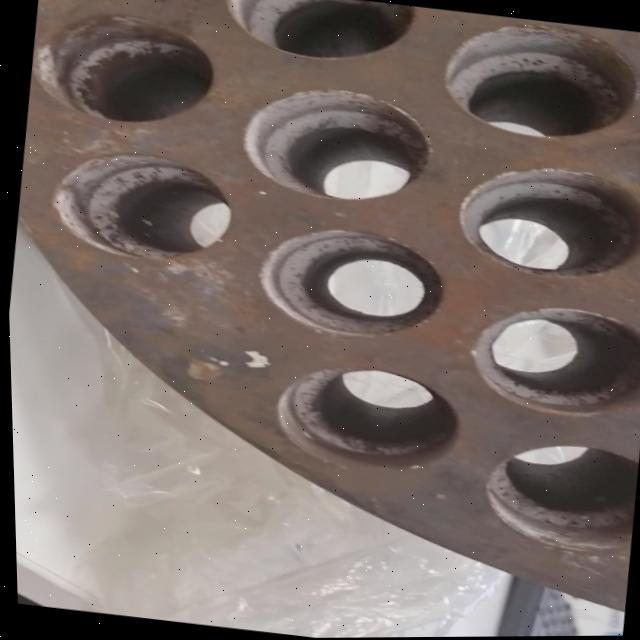Hole: (434, 14, 640, 151), (233, 78, 439, 210), (249, 217, 453, 349), (24, 3, 221, 133), (448, 155, 640, 287), (43, 143, 238, 271), (266, 357, 466, 478), (461, 295, 640, 424), (473, 434, 639, 558), (219, 0, 417, 72)
